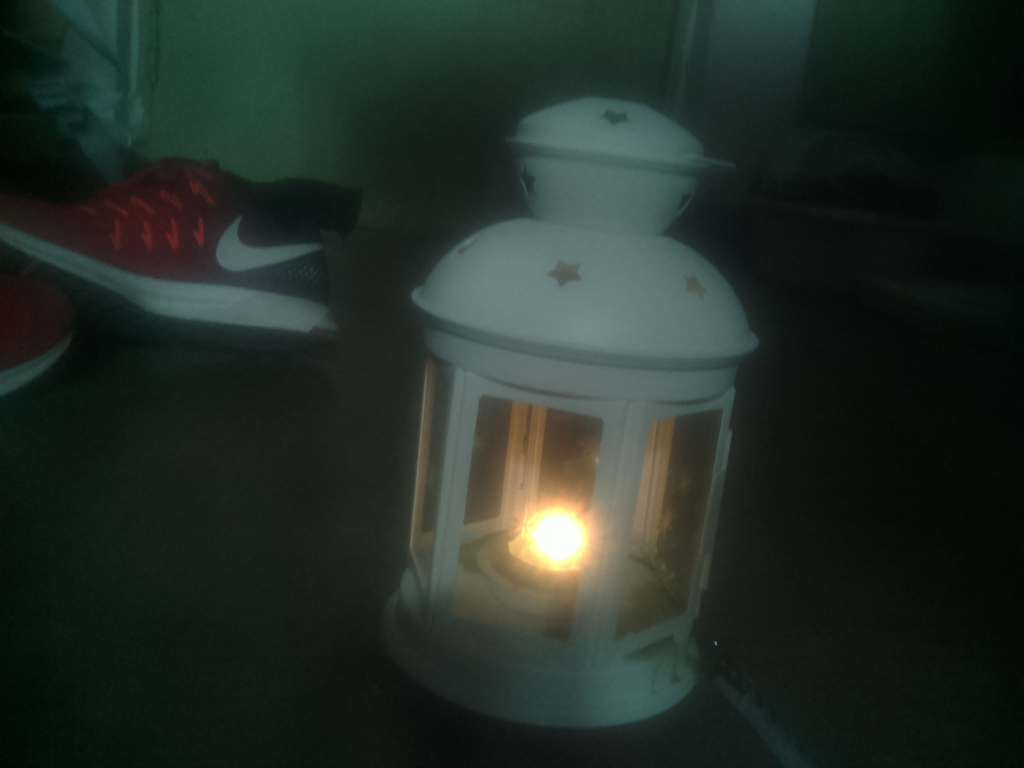fire: (503, 494, 630, 596)
